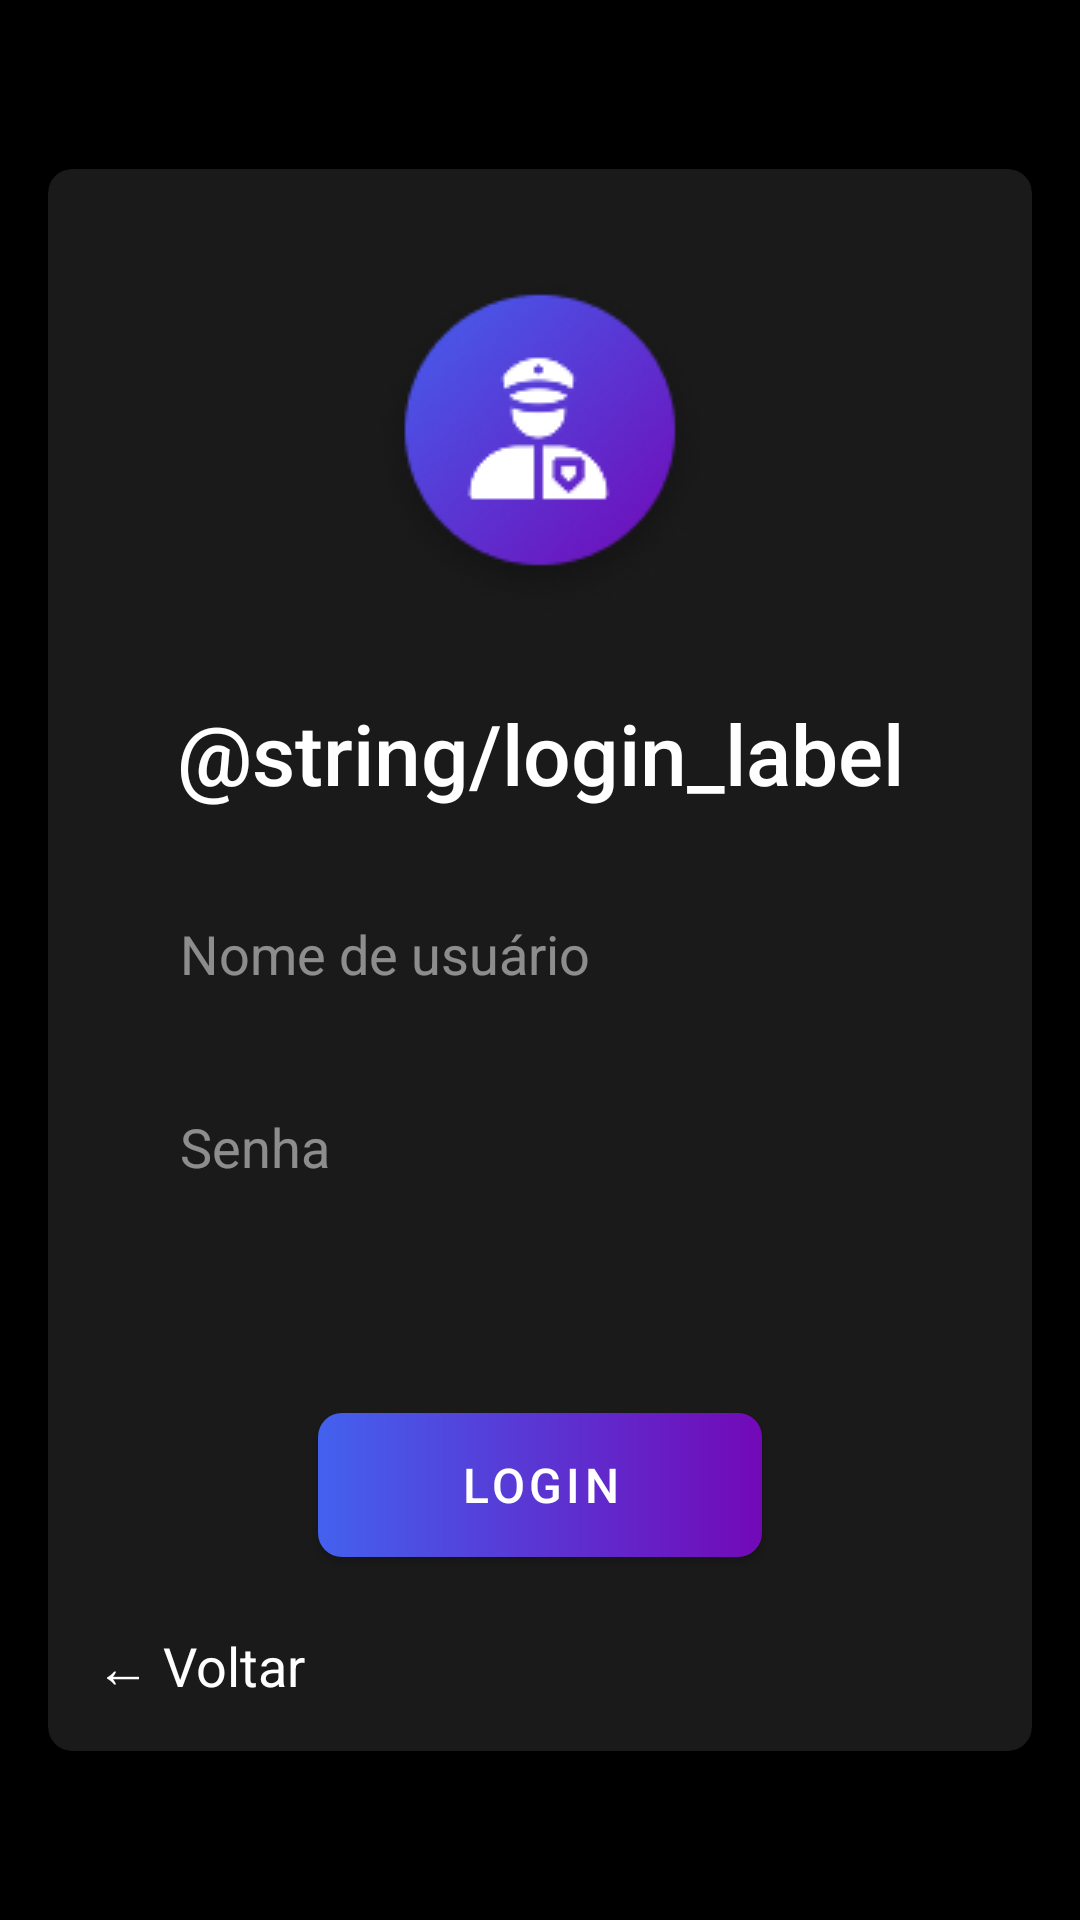

Icons on this 1080x1920 Android screen, each with the point to tap as (x,y):
policia: (540,430)
